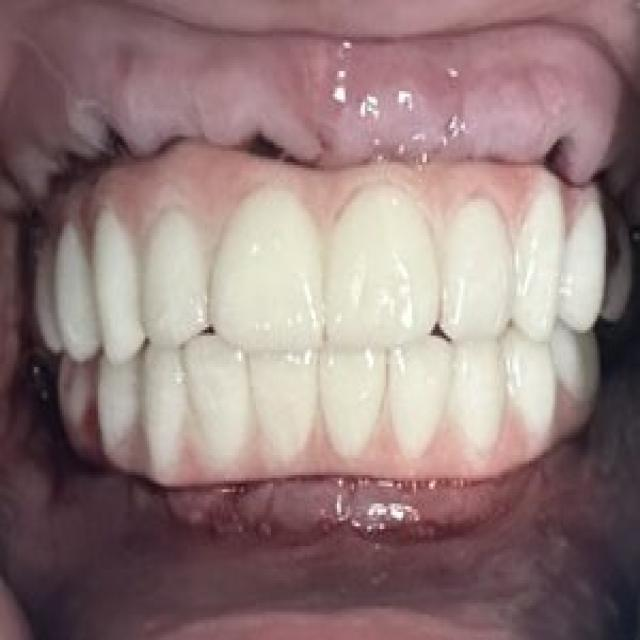tooth: (218, 190, 322, 350), (329, 188, 435, 338), (444, 190, 514, 338), (137, 202, 209, 333), (252, 347, 326, 464), (183, 341, 252, 455), (386, 333, 448, 455), (90, 210, 143, 352), (514, 185, 563, 336), (450, 336, 508, 460), (324, 341, 382, 461), (497, 327, 553, 444), (557, 302, 604, 416), (563, 202, 602, 338), (60, 230, 102, 356), (145, 350, 188, 461), (34, 227, 62, 350), (105, 364, 147, 441), (49, 364, 94, 430)
